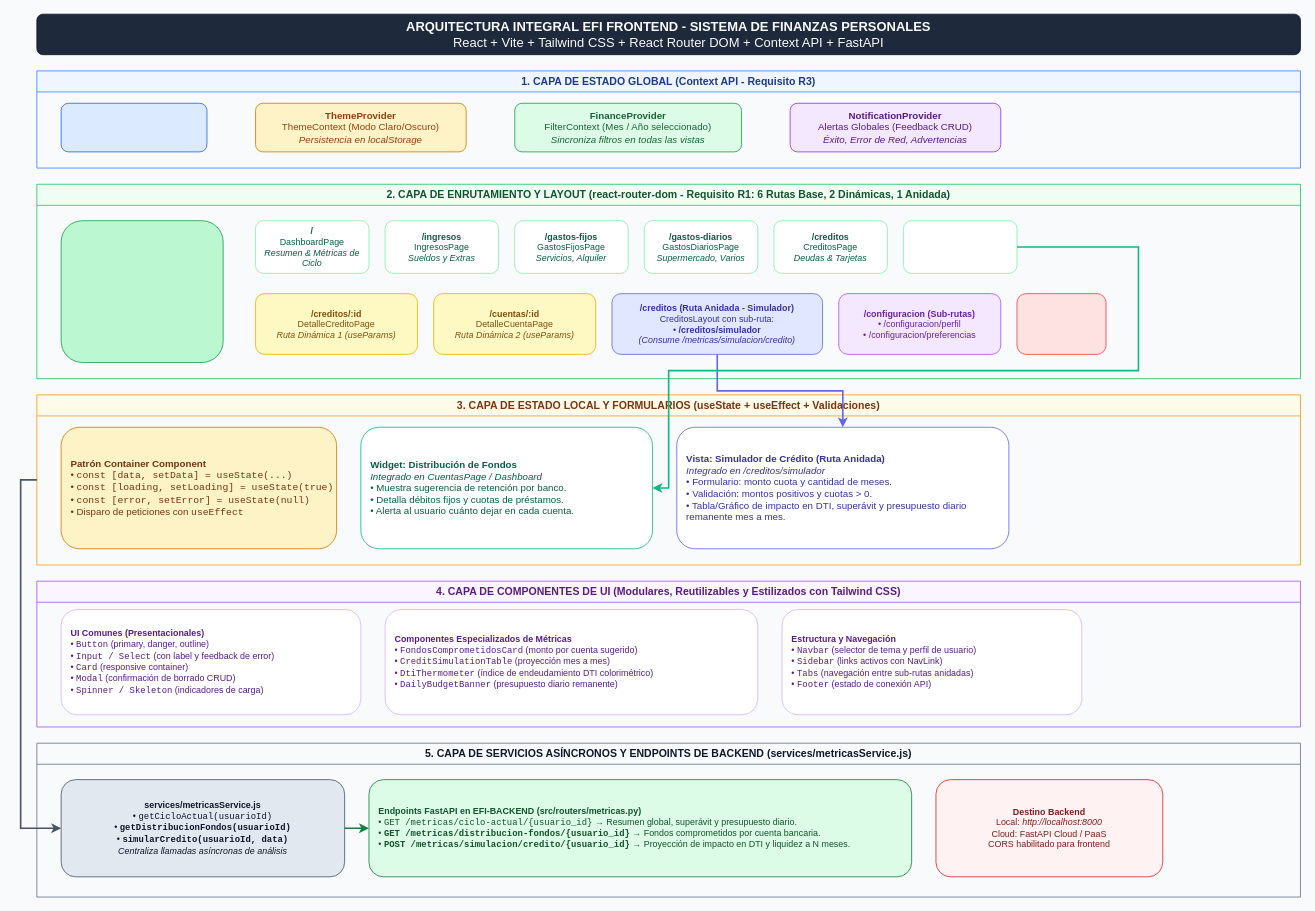
Image size: 1315x911. Some labels were removed from this diagram. The centre of each missing label's shape, as x and y in pixels:
* (Not Found) NotFoundPage: the point at 1061,323
/cuentas CuentasPage Bancos & Distr. Fondos: the point at 960,246
main.jsx / App.jsx Punto de Entrada: the point at 133,127
MainLayout.jsx Navbar + Sidebar + Footer Contiene <Outlet />: the point at 141,291
